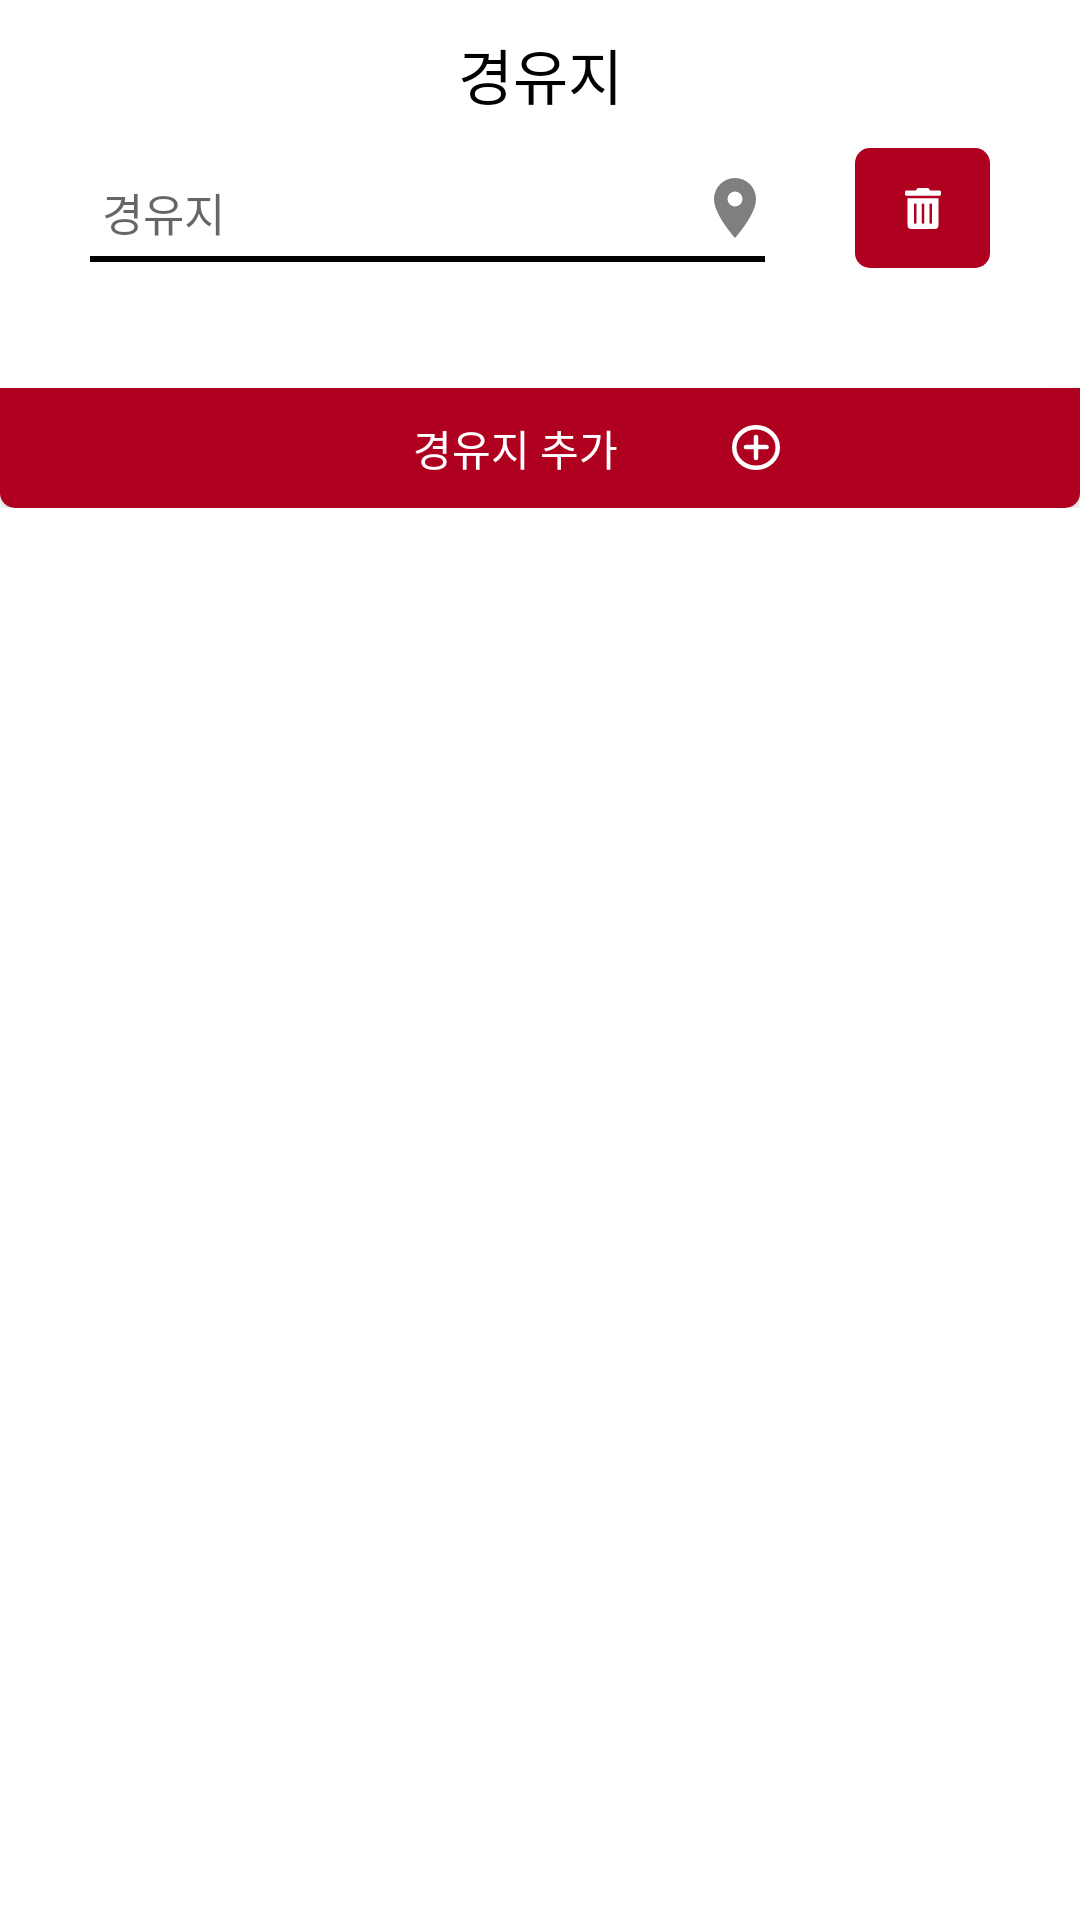

Icon bounding boxes for this 1080×1920 phone screenshot, format (x1, y1, x2, y2):
location on: (714, 178, 756, 238)
trash: (855, 148, 990, 268)
